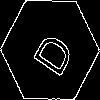D: (25, 25, 76, 79)
